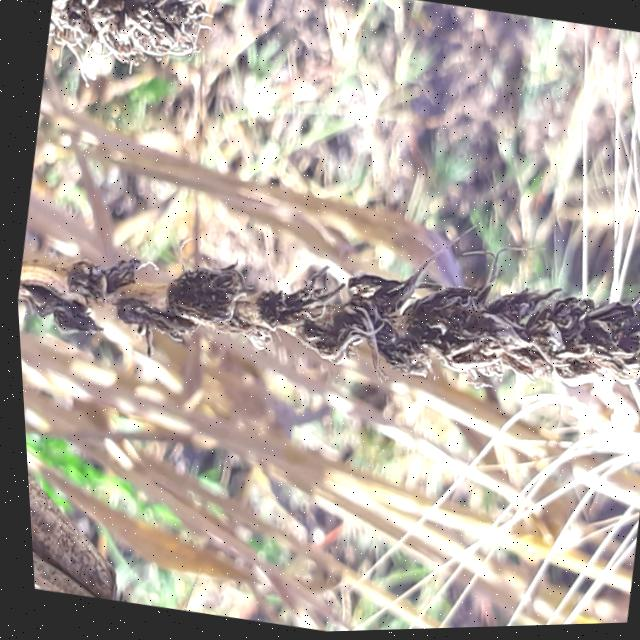loose_charred: (8, 167, 640, 493), (19, 408, 159, 606), (33, 0, 231, 136)
